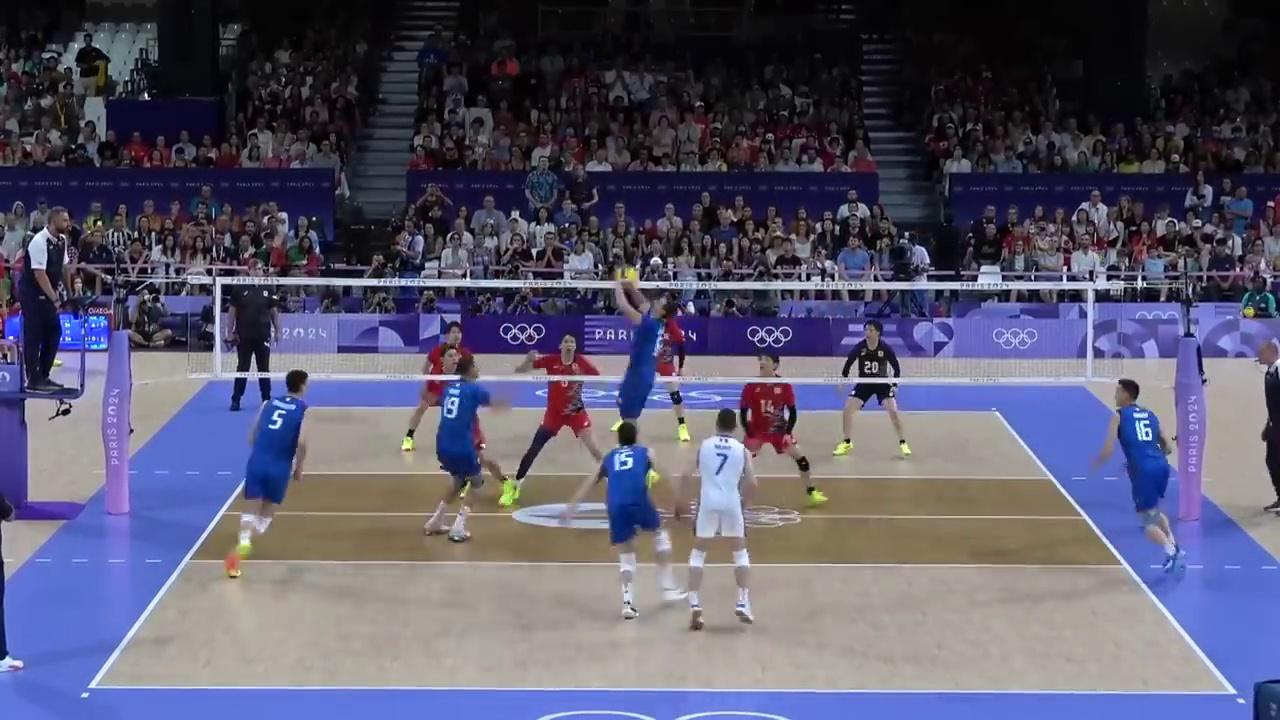ball: (621, 268, 638, 286)
